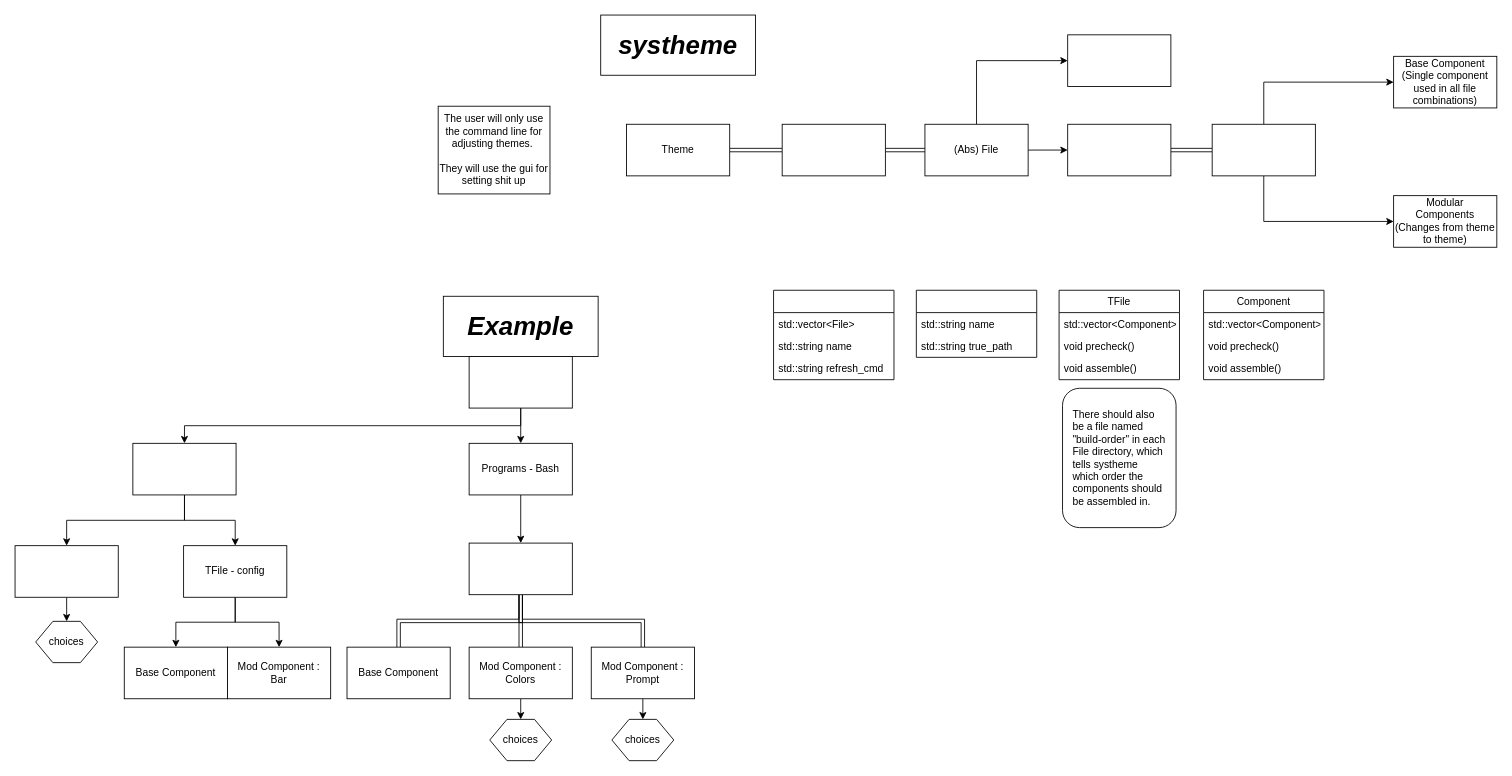
Image size: 1512x776. Some labels were removed from this diagram. The shapes that lost their labels are listed below. From the top down, each one's box as (x1, y1, x2, y2) in pixels, then its label:
(1067, 34, 1171, 86): Binary File
(781, 123, 885, 176): Programs
(1067, 123, 1171, 176): Text File
(1211, 123, 1315, 176): (Abs) Components
(773, 289, 894, 380): Program
(915, 289, 1037, 357): File
(468, 356, 572, 408): Theme - Gruvbox
(132, 442, 236, 495): Programs - i3
(14, 545, 118, 597): BFile - wallpaper
(468, 542, 572, 595): TFile - .bashrc
